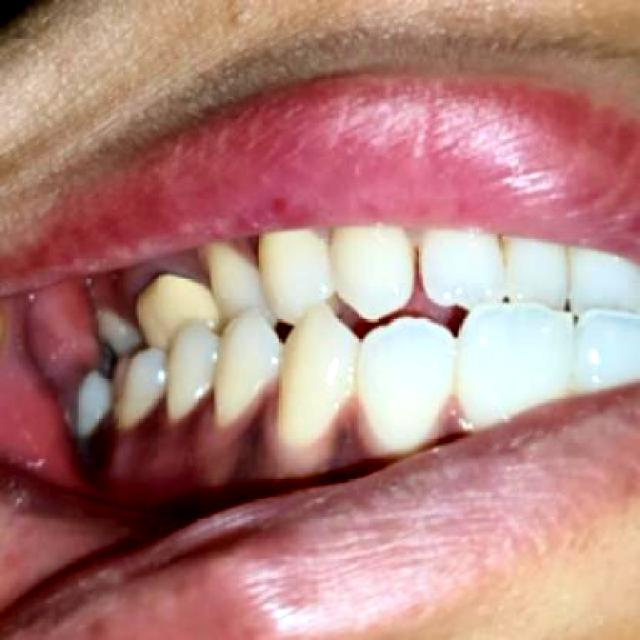Plaque: (82, 390, 388, 512), (85, 234, 260, 334)
